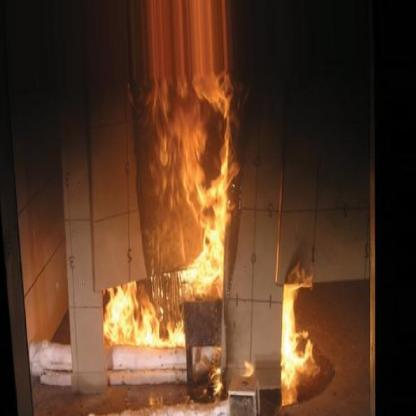fire: (140, 50, 231, 271), (96, 275, 226, 343), (279, 262, 322, 410), (207, 354, 233, 399)
